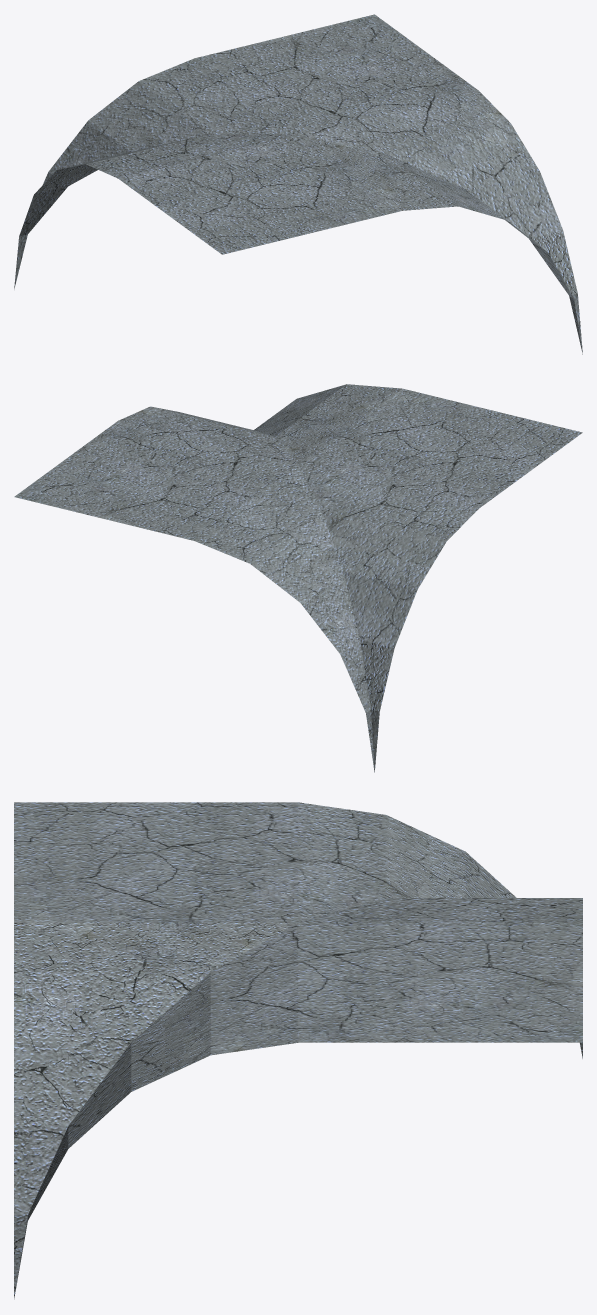
File: ceiling_08.fbx
The picture shows the model from 3 angles, top to bottom: view 1: azimuth 30°, elevation 25°; view 2: azimuth 150°, elevation 25°; view 3: azimuth 270°, elevation 25°; orthographic projection. The views are drawn at different scales.
Visible parts, largest first — view 1: ceiling_08; view 2: ceiling_08; view 3: ceiling_08.
Part boxes in pixels (x1,y1,x2,y2): ceiling_08: (14, 14, 582, 354); ceiling_08: (14, 384, 582, 772); ceiling_08: (14, 802, 582, 1299).
Bounding box in the file's own units: 100 × 50 × 100.
